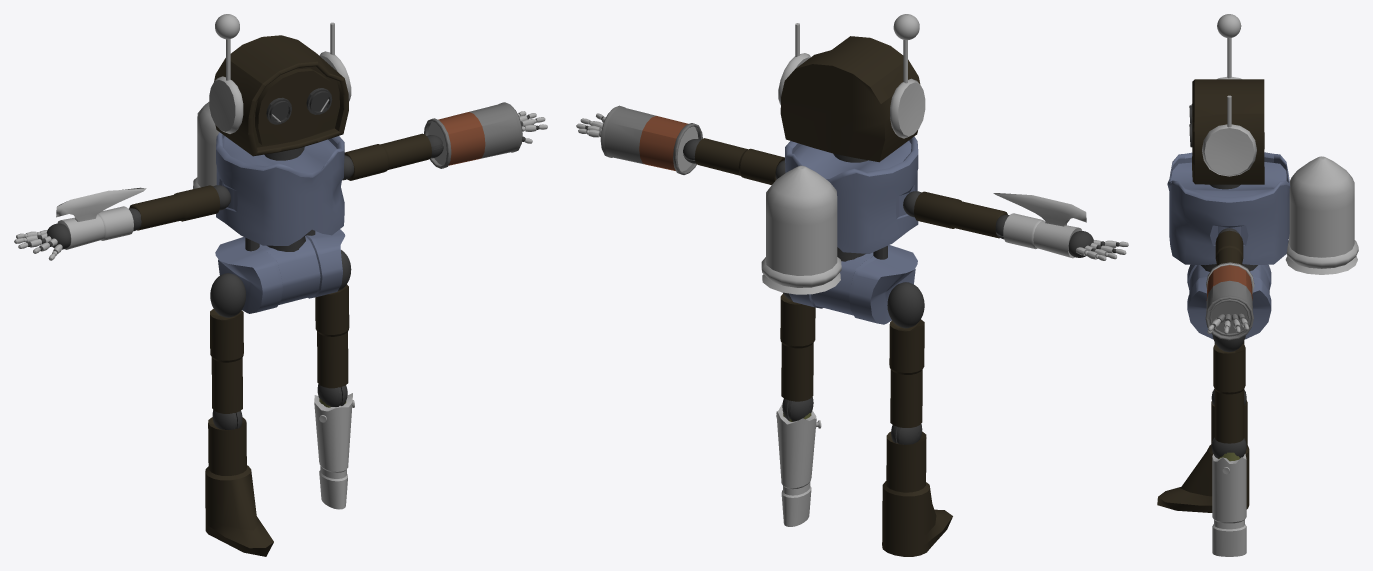
File: R-BRT-RightSize2.fbx
The picture shows the model from 3 angles, left to right: view 1: azimuth 30°, elevation 25°; view 2: azimuth 150°, elevation 25°; view 3: azimuth 270°, elevation 25°; orthographic projection. The views are drawn at different scales.
Parts seen in each view (by area): view 1: Chest, Head, Hips2, LeftLeg4, RightArm4 (×2), Can, PegLeg, RightArm7, LeftLeg5, RighLeg2, EarR1, JetPack (+1 smaller); view 2: Head, JetPack, Chest, LeftLeg4, RightArm4 (×2), Hips2, Can, PegLeg, LeftLeg5, RightArm7, RighLeg2, EarR1 (+1 smaller); view 3: Chest, JetPack, Head, PegLeg, RighLeg2, Can, LeftLeg4, Hips2, EarR, RightArm4, RightLeg7, AntinaBall (+1 smaller).
Boxes of the visible parts, x1=… form: Chest: x1=216, y1=132, x2=344, y2=245; Head: x1=214, y1=35, x2=348, y2=156; Hips2: x1=215, y1=229, x2=345, y2=313; LeftLeg4: x1=205, y1=417, x2=273, y2=556; RightArm4 (×2): x1=129, y1=133, x2=431, y2=230; Can: x1=424, y1=102, x2=522, y2=168; PegLeg: x1=314, y1=393, x2=352, y2=509; RightArm7: x1=56, y1=187, x2=146, y2=249; LeftLeg5: x1=210, y1=309, x2=243, y2=413; RighLeg2: x1=315, y1=284, x2=349, y2=388; EarR1: x1=209, y1=76, x2=243, y2=133; JetPack: x1=193, y1=102, x2=219, y2=188; Head: x1=780, y1=36, x2=920, y2=162; JetPack: x1=761, y1=165, x2=841, y2=294; Chest: x1=785, y1=136, x2=918, y2=253; LeftLeg4: x1=882, y1=431, x2=952, y2=556; RightArm4 (×2): x1=694, y1=138, x2=1007, y2=238; Hips2: x1=788, y1=245, x2=917, y2=324; Can: x1=600, y1=105, x2=702, y2=174; PegLeg: x1=776, y1=403, x2=816, y2=526; LeftLeg5: x1=889, y1=319, x2=924, y2=427; RightArm7: x1=993, y1=193, x2=1086, y2=258; RighLeg2: x1=780, y1=293, x2=815, y2=401; EarR1: x1=890, y1=78, x2=925, y2=138; Chest: x1=1167, y1=152, x2=1290, y2=265; JetPack: x1=1285, y1=156, x2=1358, y2=274; Head: x1=1192, y1=79, x2=1264, y2=184; PegLeg: x1=1212, y1=454, x2=1246, y2=556; RighLeg2: x1=1213, y1=344, x2=1245, y2=443; Can: x1=1205, y1=262, x2=1254, y2=340; LeftLeg4: x1=1157, y1=400, x2=1249, y2=512; Hips2: x1=1187, y1=264, x2=1271, y2=339; EarR: x1=1202, y1=124, x2=1256, y2=176; RightArm4: x1=1215, y1=230, x2=1243, y2=265; RightLeg7: x1=1211, y1=437, x2=1246, y2=458; AntinaBall: x1=1217, y1=14, x2=1241, y2=37.
Bounding box in the file's own units: 109 × 101 × 37.81.
